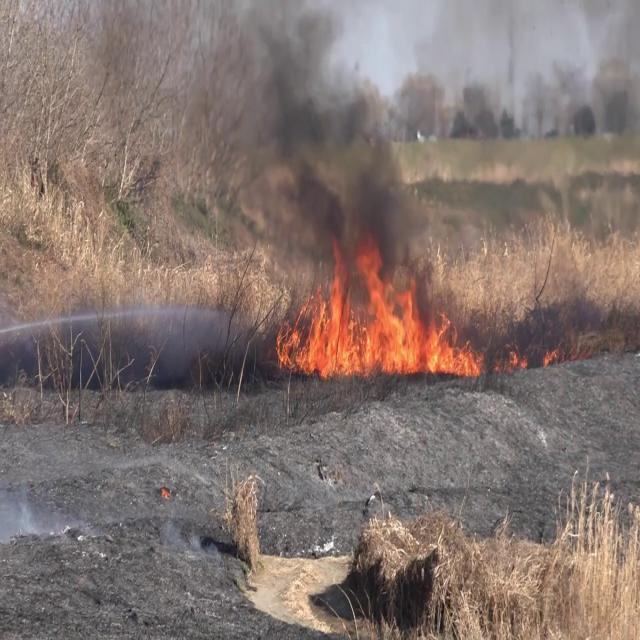Fire: (276, 242, 482, 380)
Smoke: (222, 0, 387, 273)
